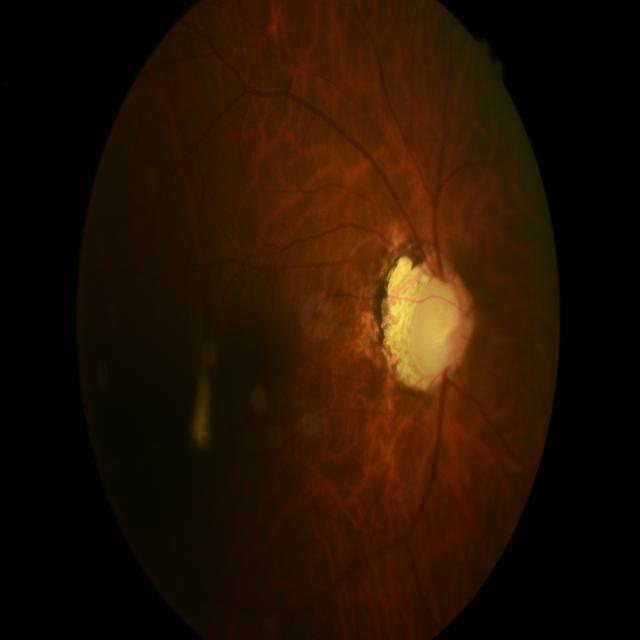cup: (413, 278, 463, 376)
disk: (412, 275, 476, 380)
